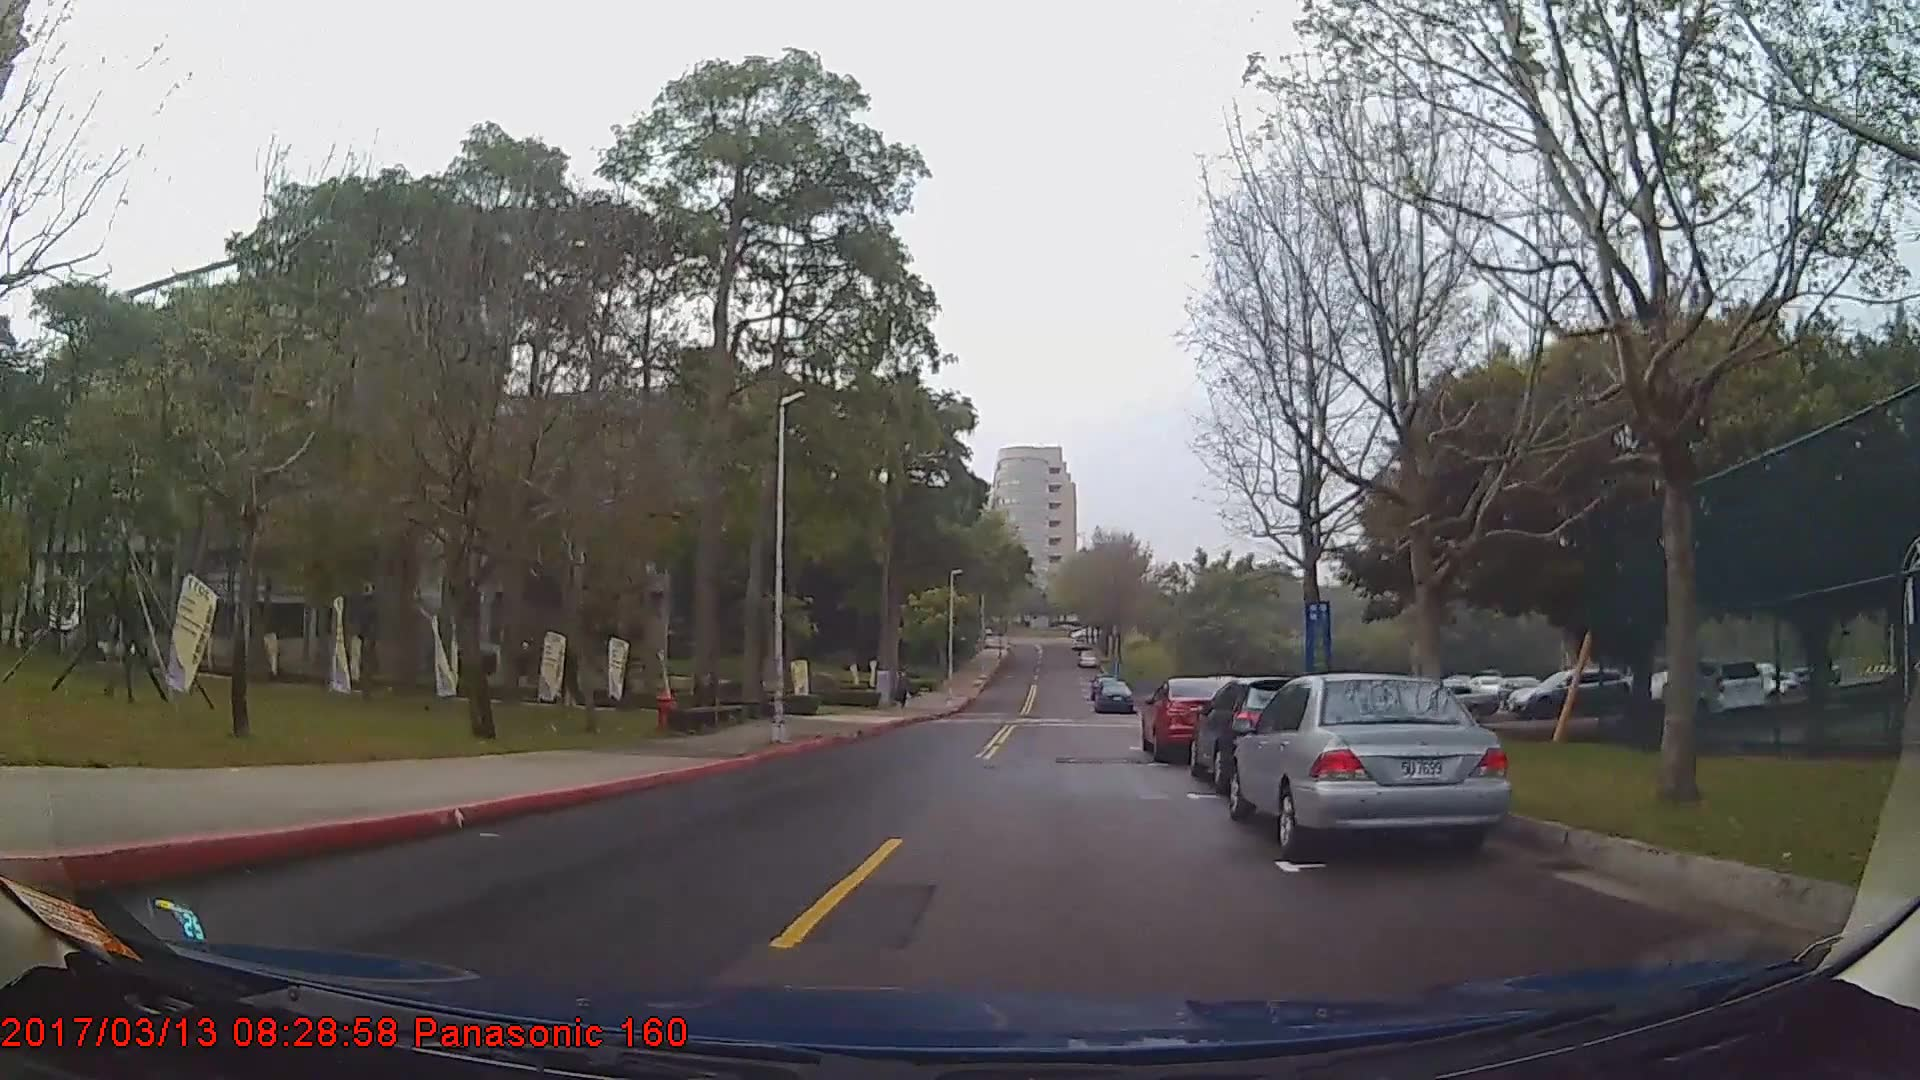vehicle: (1228, 670, 1514, 855), (1185, 674, 1332, 789), (1139, 670, 1244, 761), (1658, 657, 1763, 717), (1506, 669, 1633, 719), (1411, 676, 1498, 721), (1095, 676, 1133, 712)
